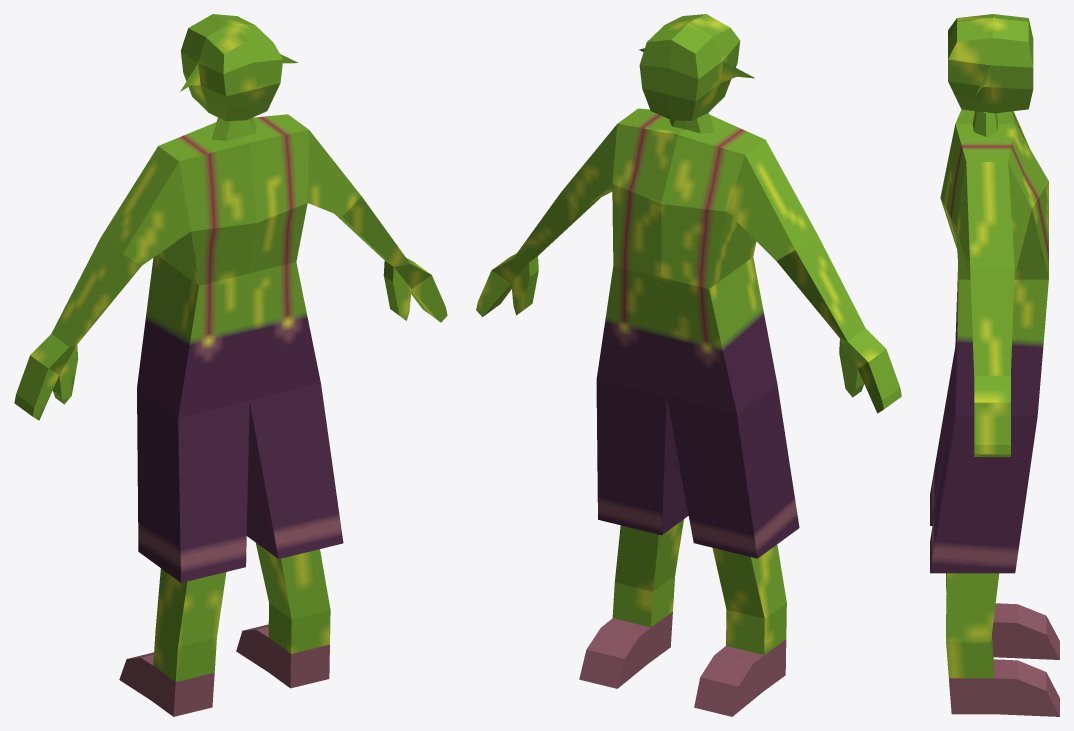
Rendered from goblin.fbx.
The picture shows the model from 3 angles, left to right: view 1: azimuth 30°, elevation 25°; view 2: azimuth 150°, elevation 25°; view 3: azimuth 270°, elevation 25°; orthographic projection.
Visible parts, largest first — view 1: Cube.009; view 2: Cube.009; view 3: Cube.009.
Part boxes in pixels (x1,y1,x2,y2): Cube.009: [14, 14, 447, 716]; Cube.009: [476, 14, 901, 716]; Cube.009: [930, 14, 1059, 716].
Size of the model in its own units: 172 by 263 by 46.89.
